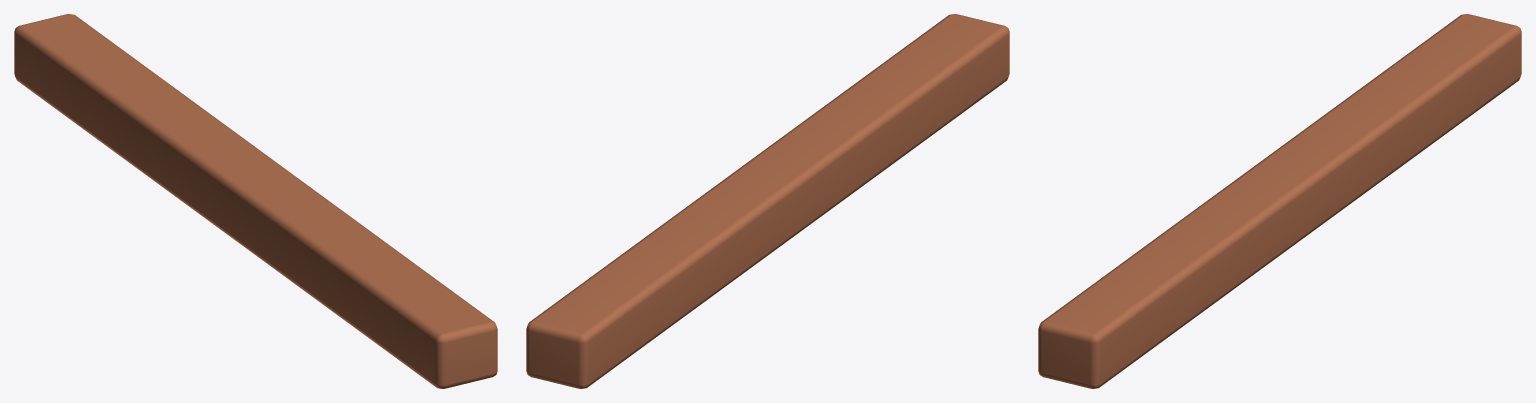
Rendered from SM_wooden_beam.glb.
3 renders of one model, left to right at view 1: azimuth 30°, elevation 25°; view 2: azimuth 150°, elevation 25°; view 3: azimuth 330°, elevation 25°, orthographic.
Visible parts, largest first — view 1: SM_wooden_beam; view 2: SM_wooden_beam; view 3: SM_wooden_beam.
Part boxes in pixels (bbox=[...]): SM_wooden_beam: bbox=[14, 14, 497, 388]; SM_wooden_beam: bbox=[526, 14, 1009, 388]; SM_wooden_beam: bbox=[1038, 14, 1521, 388].
Size of the model in its own units: 0.3715 by 0.3195 by 4.46.
Materials: 1 (1 with a texture image).
